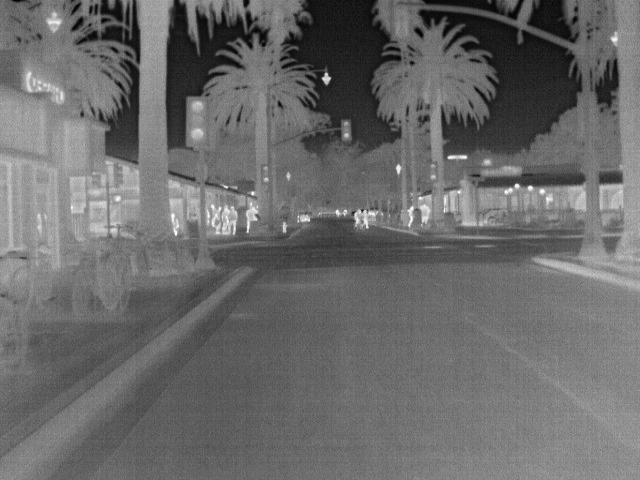car: (296, 210, 312, 223)
person: (245, 204, 259, 236), (226, 202, 239, 236), (406, 204, 419, 230), (419, 199, 432, 224), (170, 211, 182, 236), (359, 208, 371, 230), (353, 208, 365, 227)
